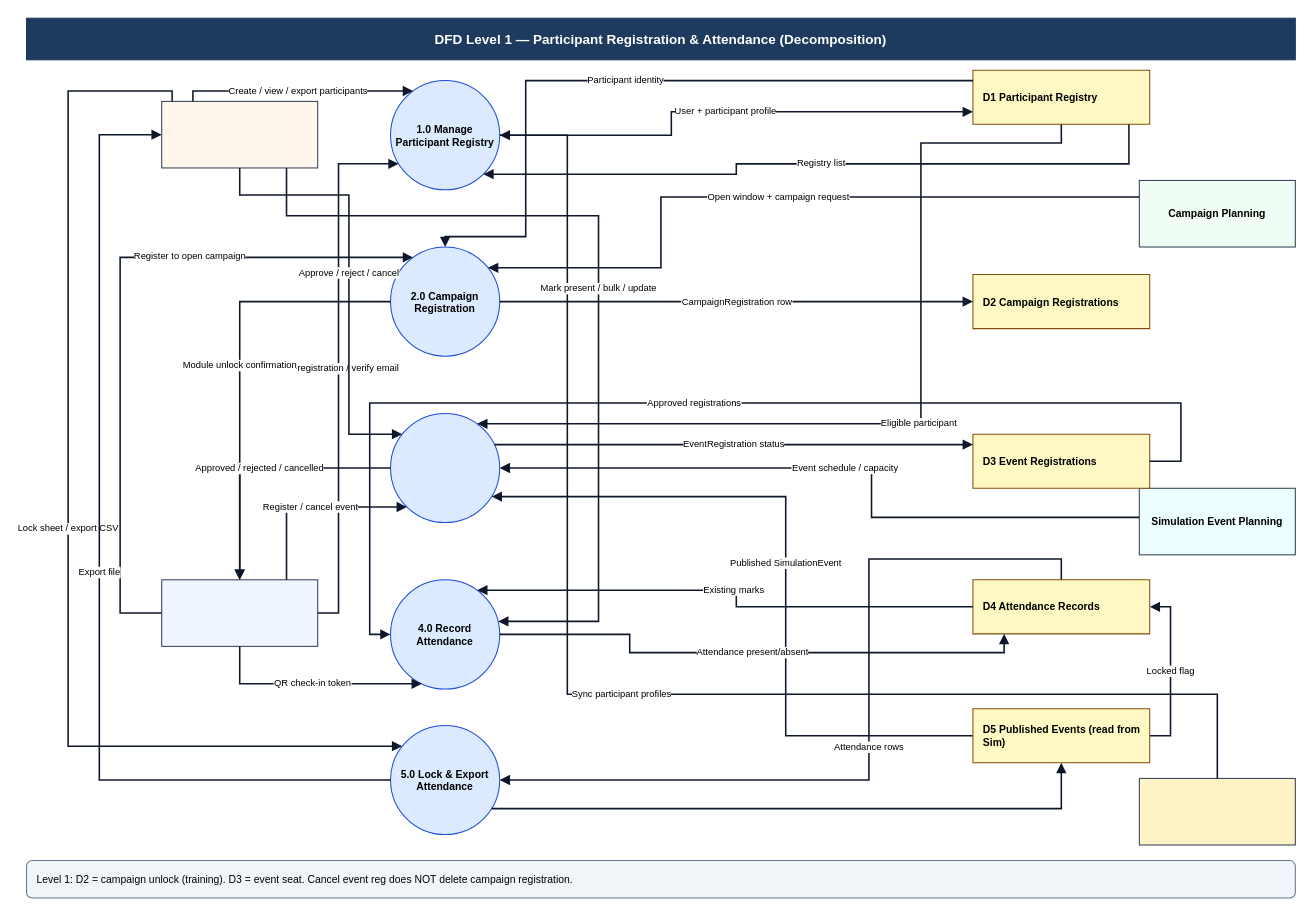
The diagram is 1314 pixels wide and 916 high, and some of its shapes have lost their labels. The shapes that lost their labels are listed below. From the top down, each one's centre as x and y in pixels, then its label:
point 239,134: Lead Trainer / Admin / Evaluator
point 444,467: 3.0 Event Registration (approve/cancel)
point 239,612: Participant
point 1216,811: Sync participants
